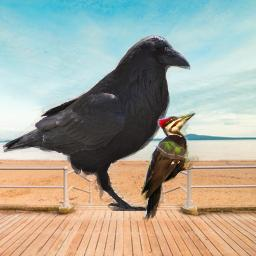Crow: (0, 34, 192, 211)
Woodpecker: (140, 111, 199, 222)
